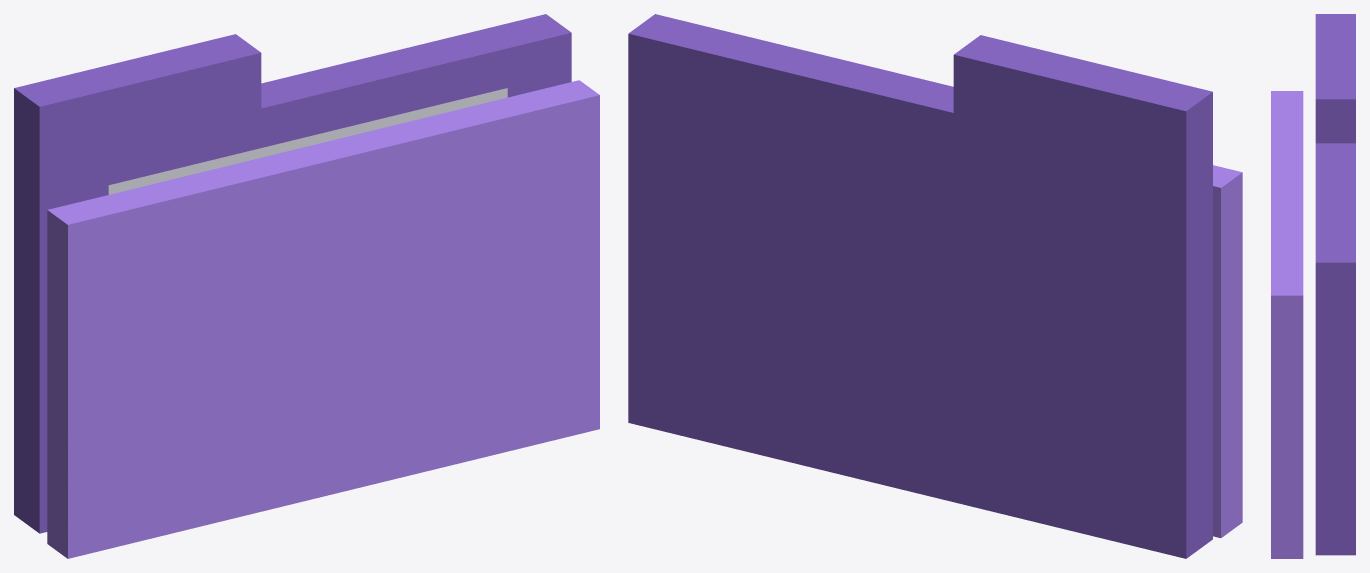
File: folder.glb
3 views of the same model, side by side, from view 1: azimuth 30°, elevation 25°; view 2: azimuth 150°, elevation 25°; view 3: azimuth 270°, elevation 25° (orthographic). The views are drawn at different scales.
Parts seen in each view (by area): view 1: front, back, tab, sheet; view 2: back, tab, front; view 3: back, front, tab.
Part boxes in pixels (x1=…): front: x1=47, y1=80, x2=599, y2=558; back: x1=14, y1=14, x2=571, y2=533; tab: x1=14, y1=34, x2=261, y2=169; sheet: x1=108, y1=88, x2=507, y2=194; back: x1=628, y1=14, x2=1212, y2=558; tab: x1=953, y1=35, x2=1212, y2=173; front: x1=1213, y1=165, x2=1242, y2=537; back: x1=1315, y1=143, x2=1355, y2=555; front: x1=1271, y1=91, x2=1303, y2=558; tab: x1=1315, y1=14, x2=1355, y2=143.
Size of the model in its own units: 1.2 by 0.93 by 0.21.
